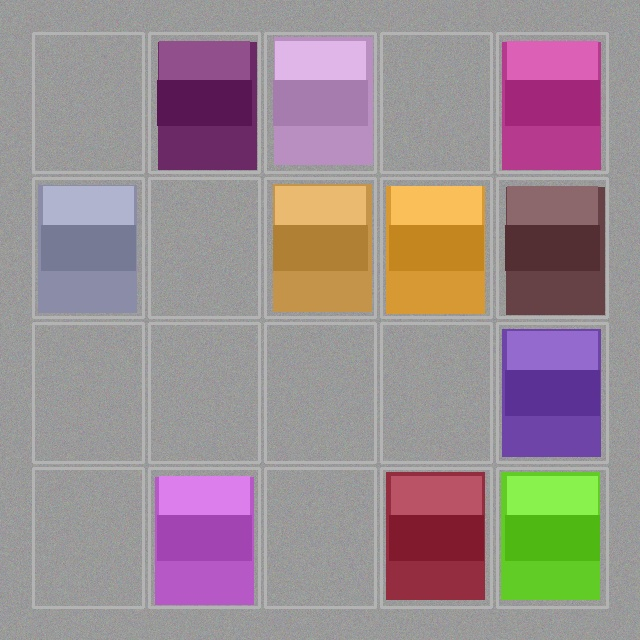space-empty: (35, 35, 141, 170), (383, 35, 489, 170), (151, 180, 257, 315), (35, 325, 141, 460), (151, 325, 257, 460), (267, 325, 373, 460), (383, 325, 489, 460), (35, 470, 141, 605), (267, 470, 373, 605)
space-occupied: (151, 35, 257, 170), (267, 35, 373, 170), (499, 35, 605, 170), (35, 180, 141, 315), (267, 180, 373, 315), (383, 180, 489, 315), (499, 180, 605, 315), (499, 325, 605, 460), (151, 470, 257, 605), (383, 470, 489, 605), (499, 470, 605, 605)
